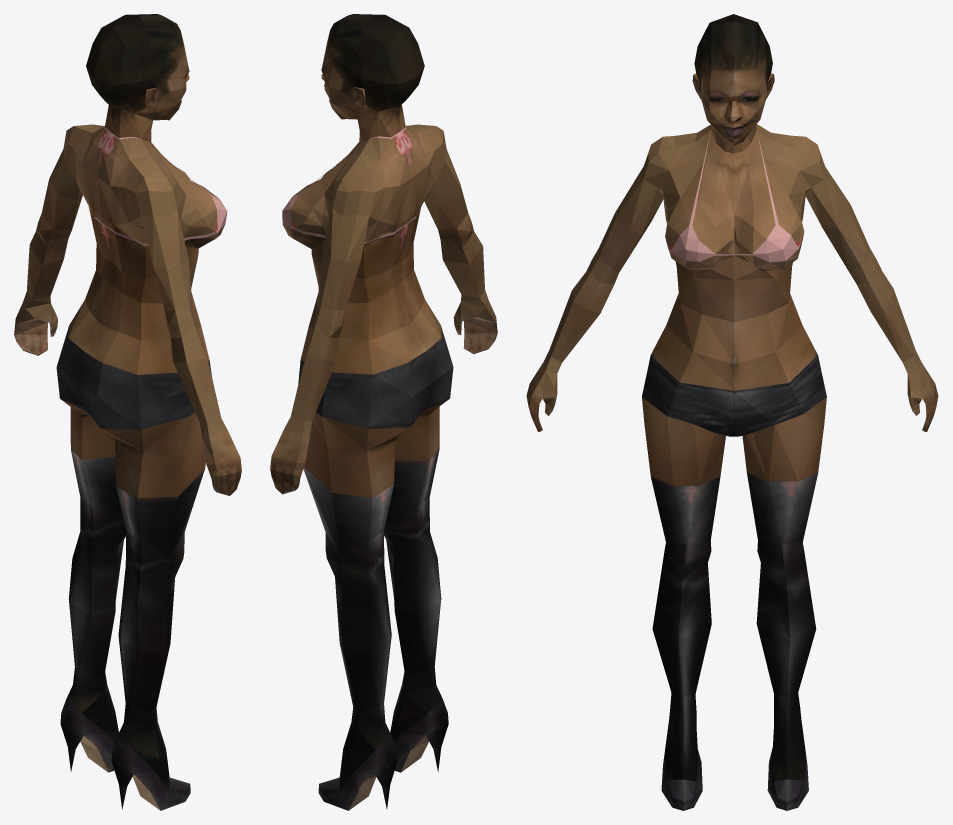
File: bfypro.obj
3 views of the same model, side by side, from view 1: azimuth 30°, elevation 25°; view 2: azimuth 150°, elevation 25°; view 3: azimuth 270°, elevation 25° (orthographic).
Parts seen in each view (by area): view 1: _Pelvis; view 2: _Pelvis; view 3: _Pelvis.
Boxes of the visible parts, bbox=[...] form: _Pelvis: bbox=[14, 14, 241, 810]; _Pelvis: bbox=[270, 14, 497, 810]; _Pelvis: bbox=[526, 14, 938, 810].
Size of the model in its own units: 0.318 by 1.8 by 0.8627.
Materials: 1 (1 with a texture image).
